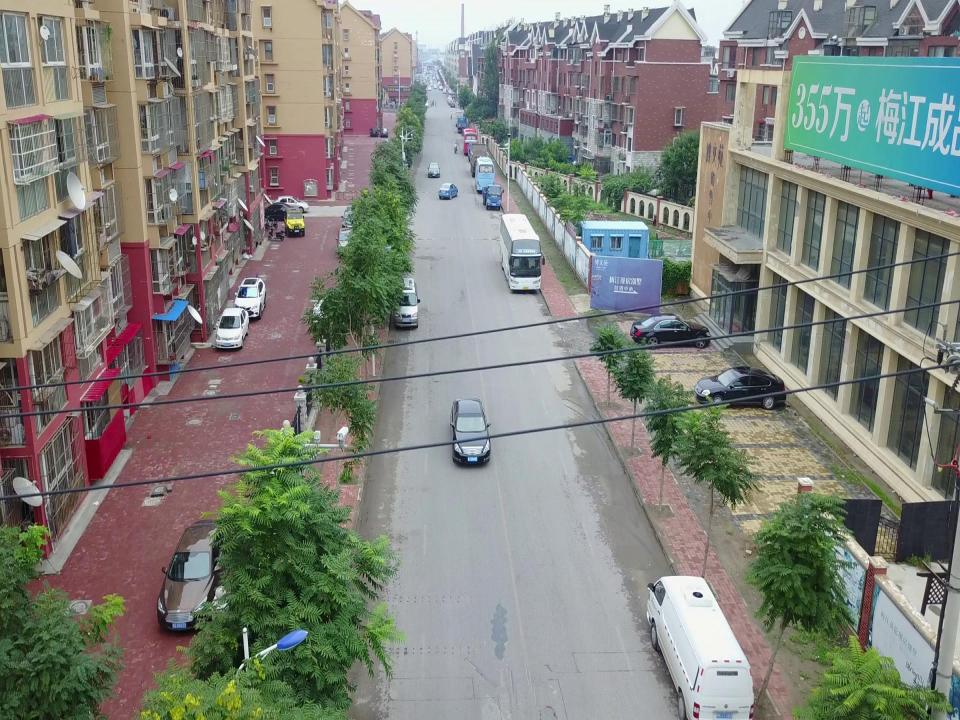bus: (499, 212, 545, 295), (475, 156, 495, 191), (461, 128, 479, 156)
car: (157, 516, 231, 635), (695, 366, 787, 409), (449, 395, 493, 468), (630, 312, 712, 348), (308, 293, 374, 331), (211, 307, 249, 351), (232, 276, 266, 320), (259, 202, 303, 223), (270, 195, 310, 214), (335, 227, 359, 257), (283, 207, 305, 237), (341, 205, 363, 232), (438, 183, 458, 200), (427, 162, 441, 178), (369, 127, 379, 137), (379, 128, 389, 138)
truck: (468, 143, 492, 176), (482, 182, 504, 210), (456, 116, 468, 134), (455, 111, 465, 127)
van: (644, 573, 754, 720), (390, 275, 420, 328)
